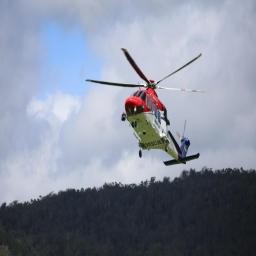helicopter: (85, 49, 209, 170)
